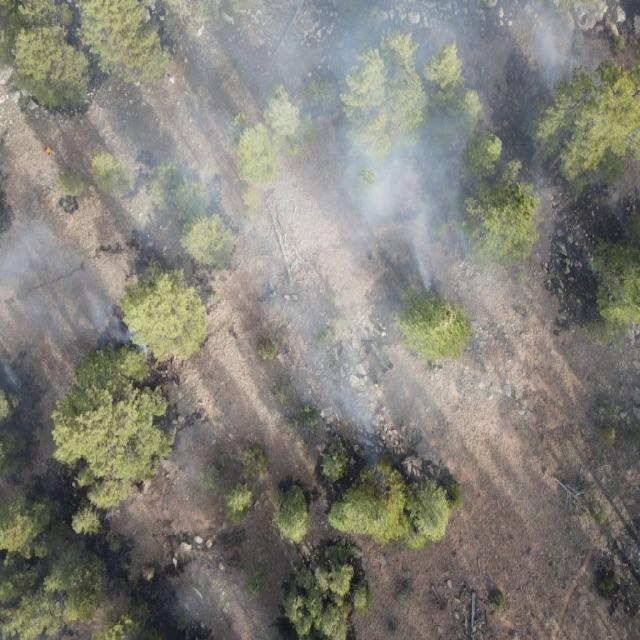fire: (76, 37, 88, 49)
smoke: (162, 0, 594, 284), (0, 218, 151, 392), (258, 283, 387, 455)
